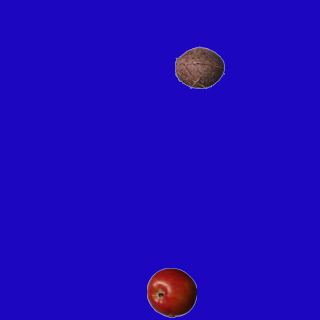Apple Braeburn: (146, 267, 196, 317)
Cocos: (174, 42, 224, 92)
